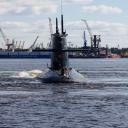submarine: (27, 11, 94, 85)
